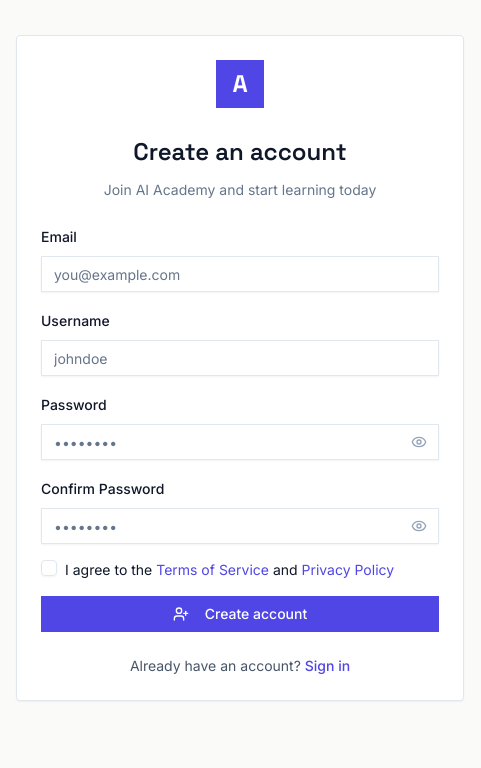
Test: Registration Checkbox Validation › Form Validation › should validate password length
In the password field labelled "Password": coordinates (240, 442) [41,424,439,460], type "short"
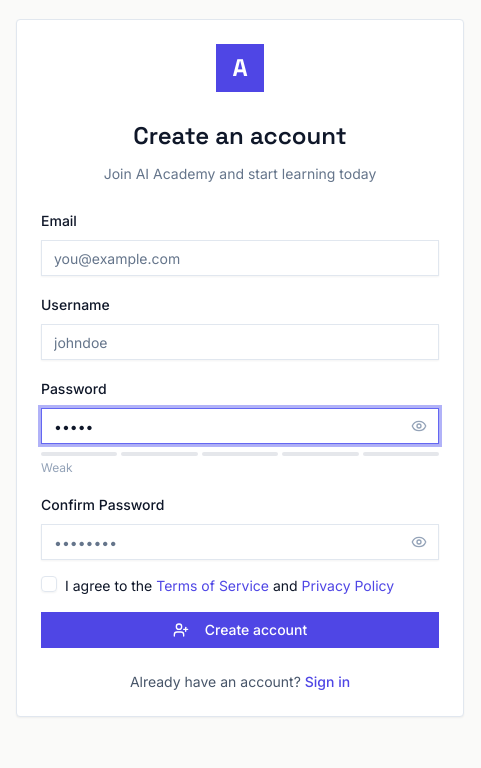
Click the button "Create account": coordinates (240, 630) [41,612,439,648]
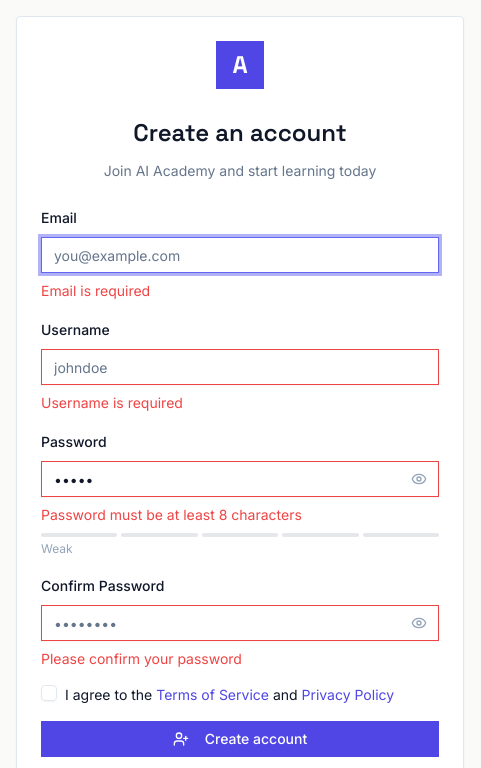
Result: the text "Password must be at least 8 characters" is shown at [41,506,302,523]
